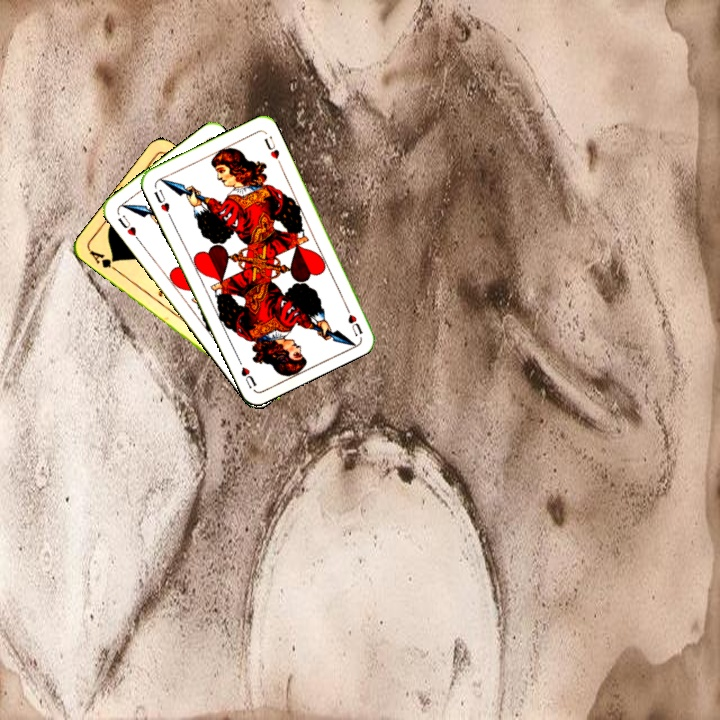GA: (85, 246, 121, 275)
HU: (114, 211, 143, 244), (341, 300, 365, 339), (149, 185, 174, 221)
